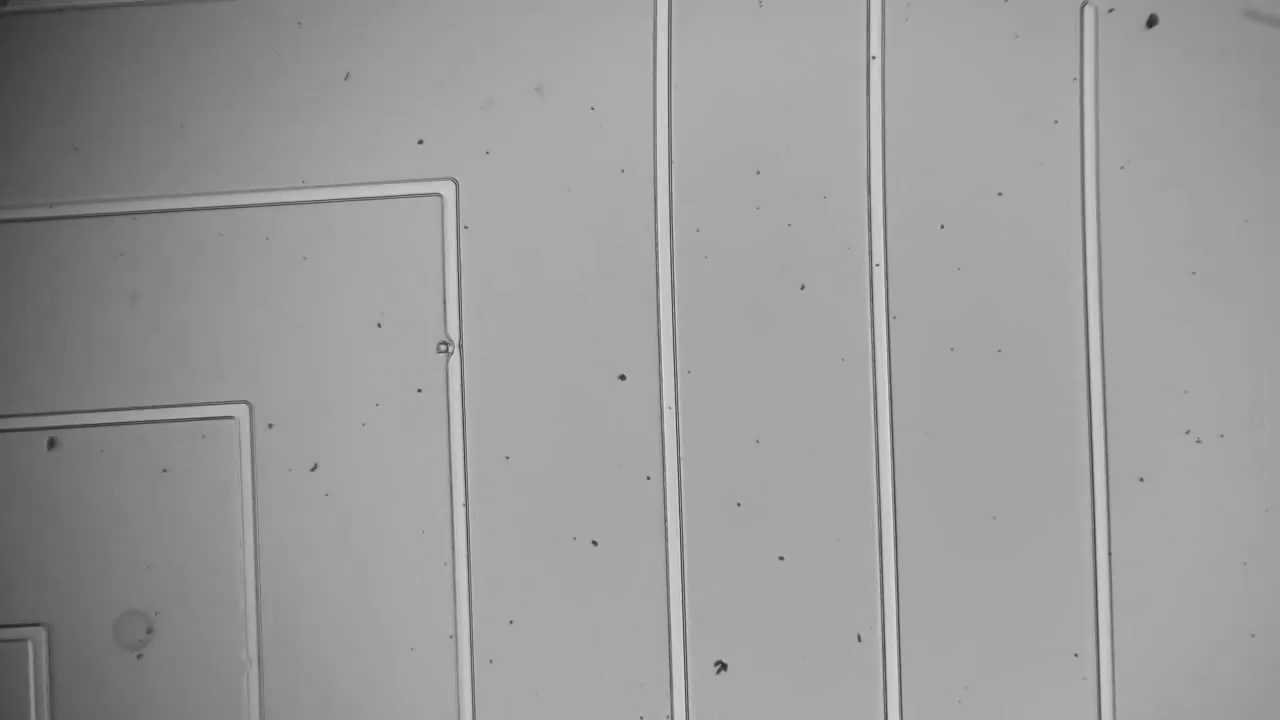edge_bite: (430, 324, 474, 369), (233, 643, 273, 690)
